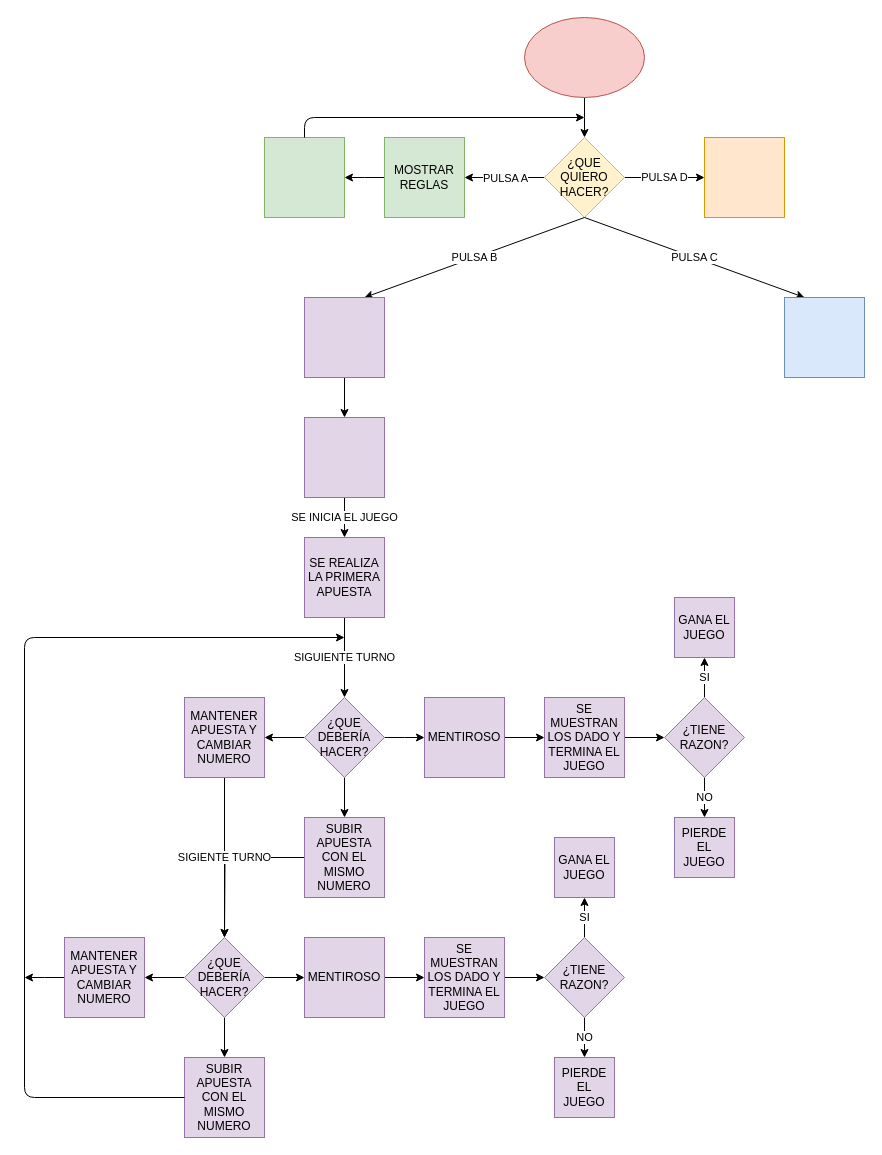
This 882x1155 diagram has some shape labels left out. The shapes that lost their labels are listed below. From the top down, each one's box as (x1, y1, x2, y2) in pixels, then its label:
(524, 16, 644, 98): DADO MENTIROSO
(264, 136, 344, 218): ESCRIBE VOLVER
(704, 136, 784, 218): SALIR DEL MENÚ
(304, 296, 384, 378): JUGADOR CONTRA JUGADOR
(784, 296, 864, 378): JUGADOR CONTRA IA
(304, 416, 384, 498): CONSEGUIR DADOS CON RAND
